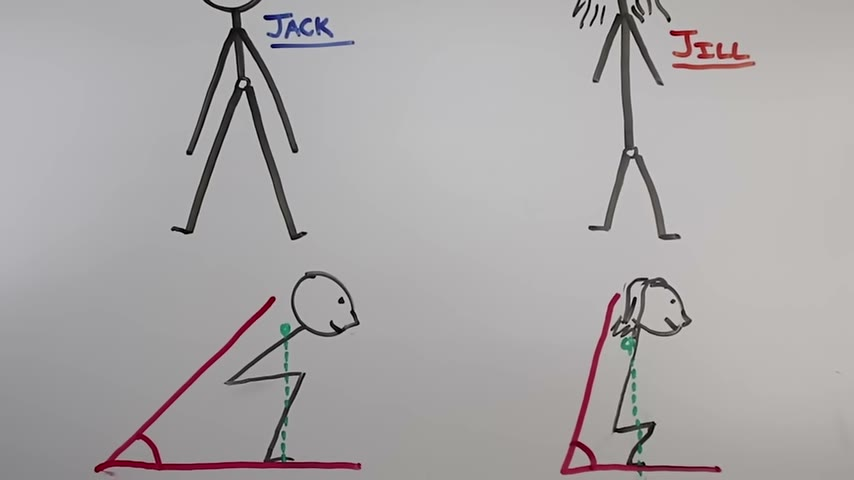barbell_plate_side: (297, 272, 364, 450), (306, 270, 366, 377), (322, 271, 365, 369), (659, 277, 694, 348)
